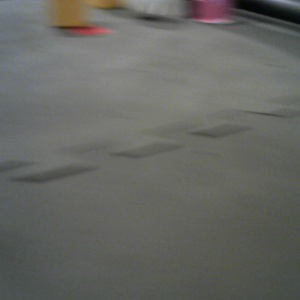right: (184, 1, 239, 24)
